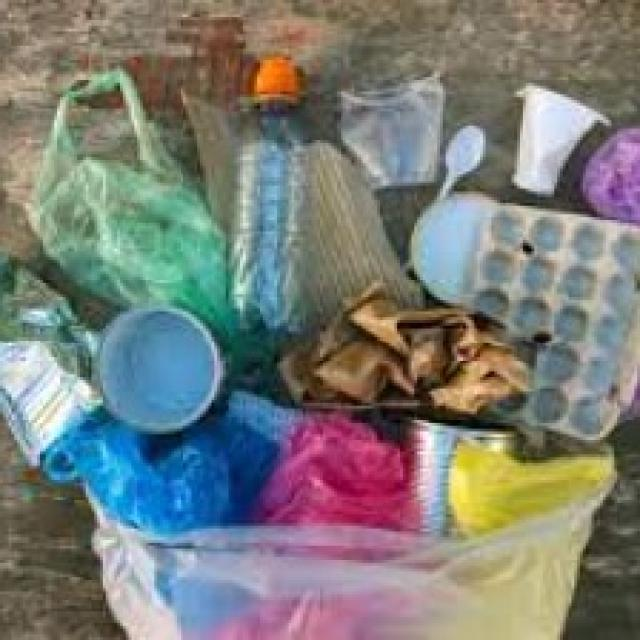cardboard: (470, 200, 640, 440)
metel: (411, 399, 507, 529)
others: (94, 298, 230, 444)
paper: (300, 286, 535, 430), (1, 330, 73, 464)
plastic: (330, 69, 453, 193), (514, 65, 603, 197)
plastic_bag: (63, 510, 597, 640), (25, 65, 235, 343), (59, 405, 257, 545), (268, 400, 415, 551), (461, 445, 590, 557)
plastic_bottle: (234, 39, 316, 341)
